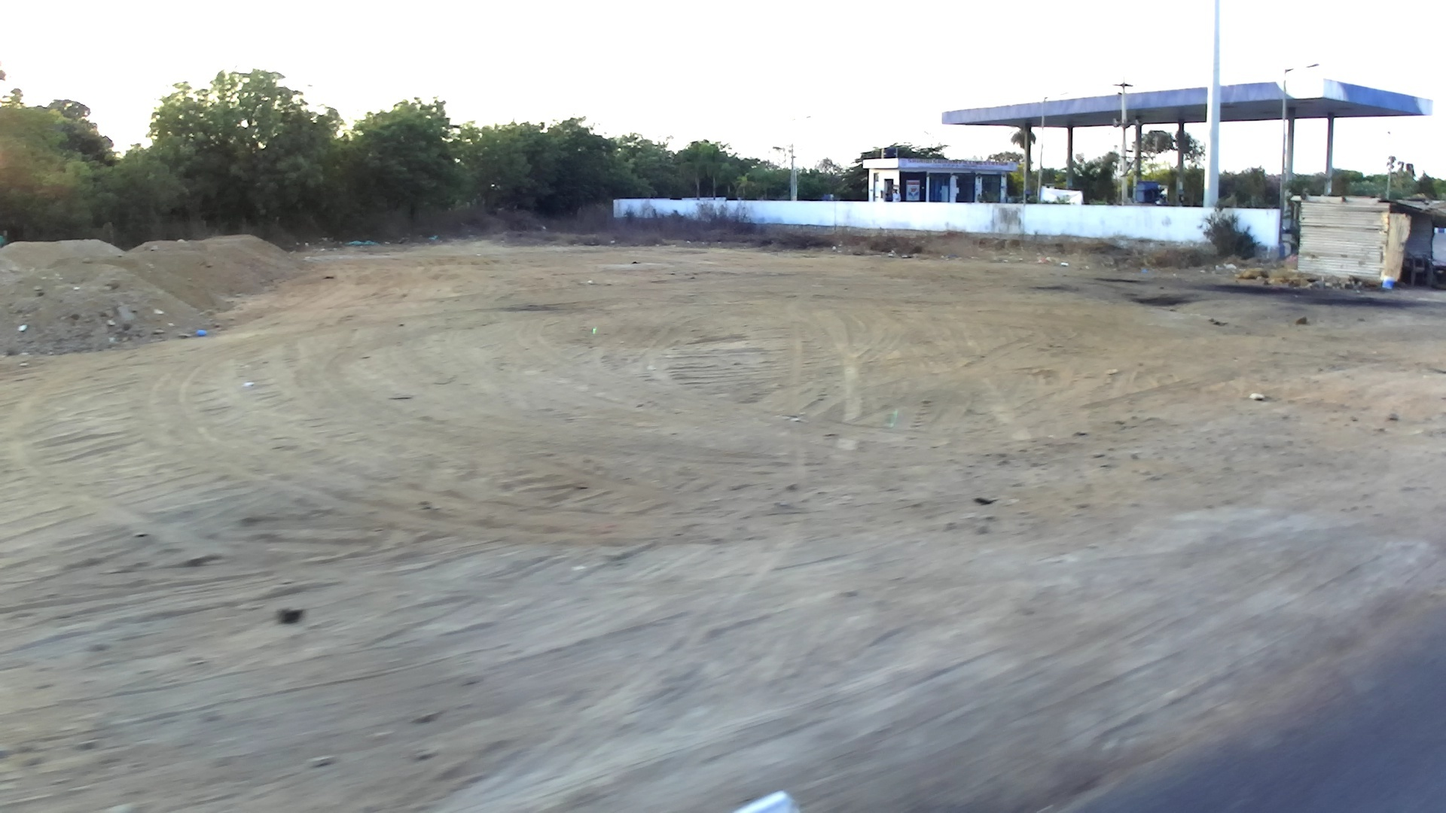car: (883, 192, 892, 202)
person: (892, 189, 902, 202)
